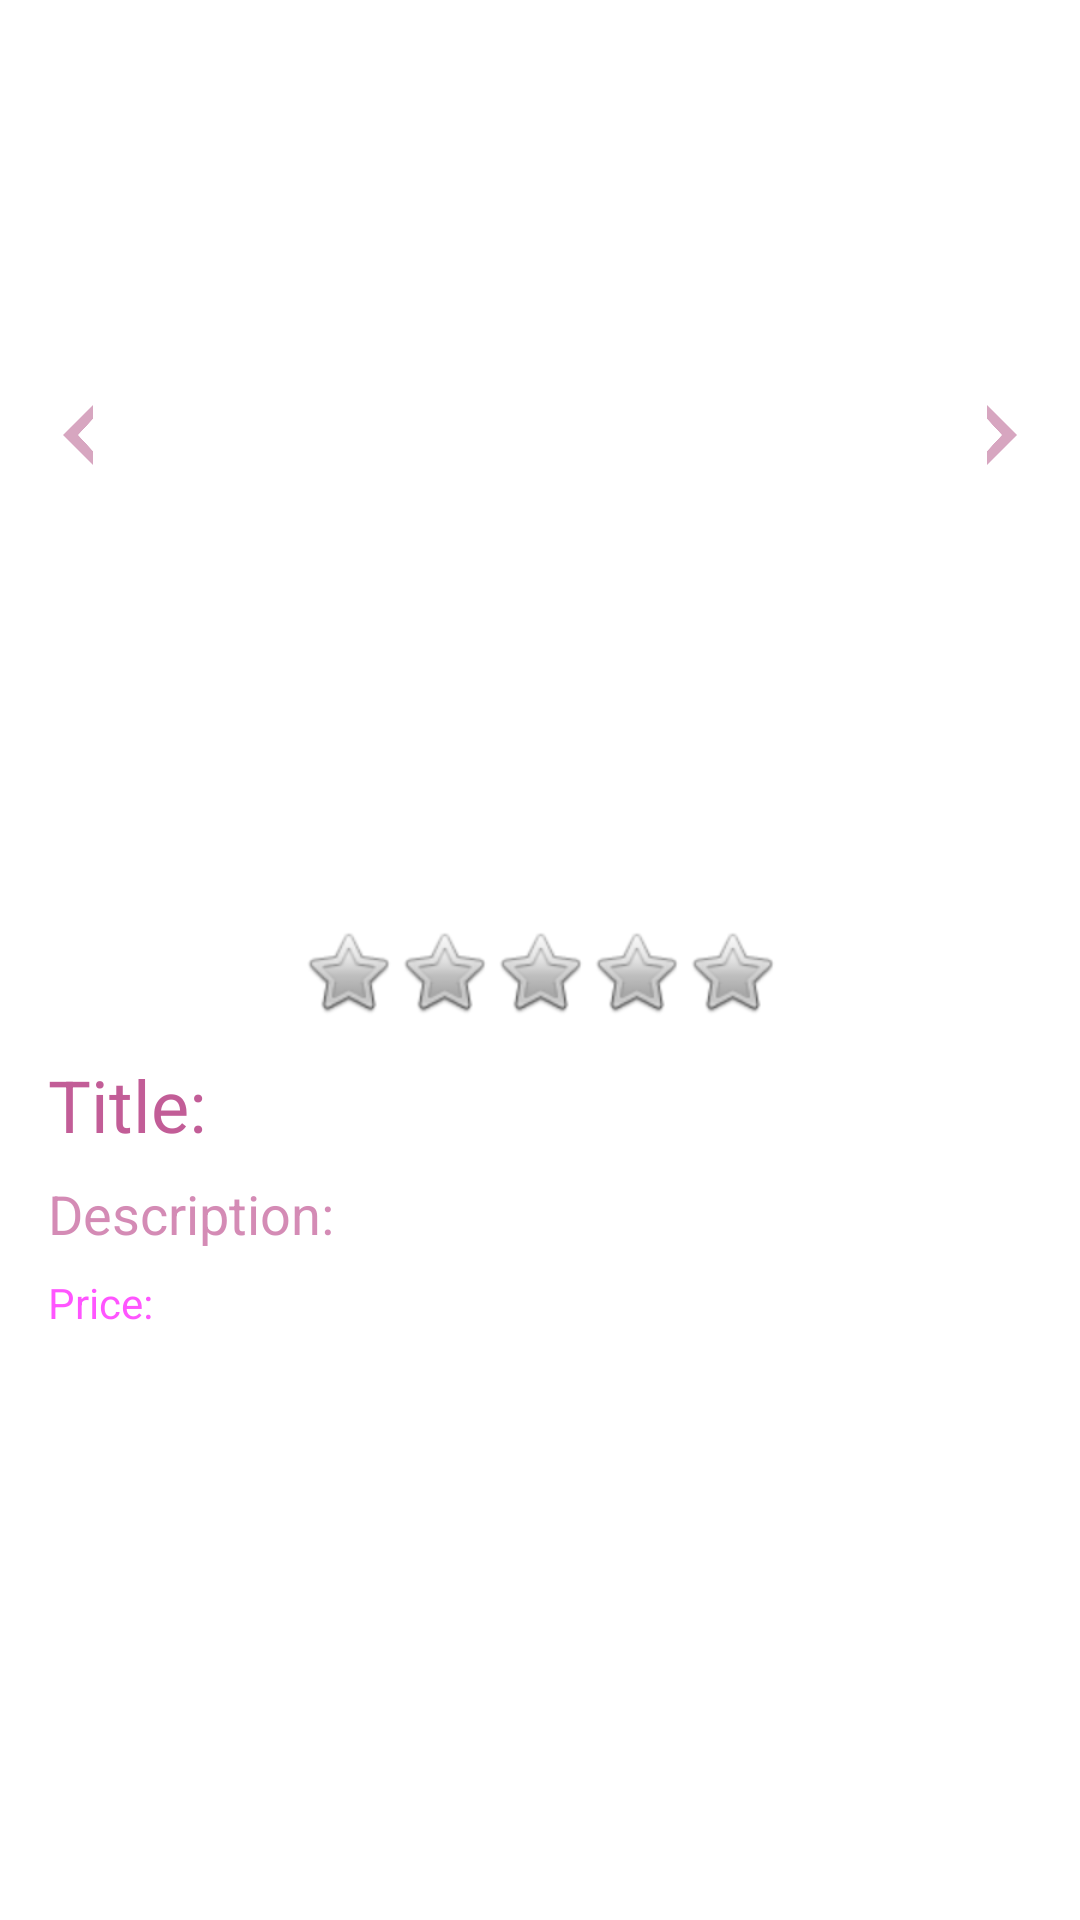

Screen size 1080x1920. Icon name, then its box in pixels as [x1, y1, x2, y2]:
left animation: [63, 405, 93, 465]
right animation: [987, 405, 1017, 465]
star off: [309, 934, 389, 1012], [405, 934, 485, 1012], [501, 934, 581, 1012], [597, 934, 677, 1012], [693, 934, 773, 1012]
